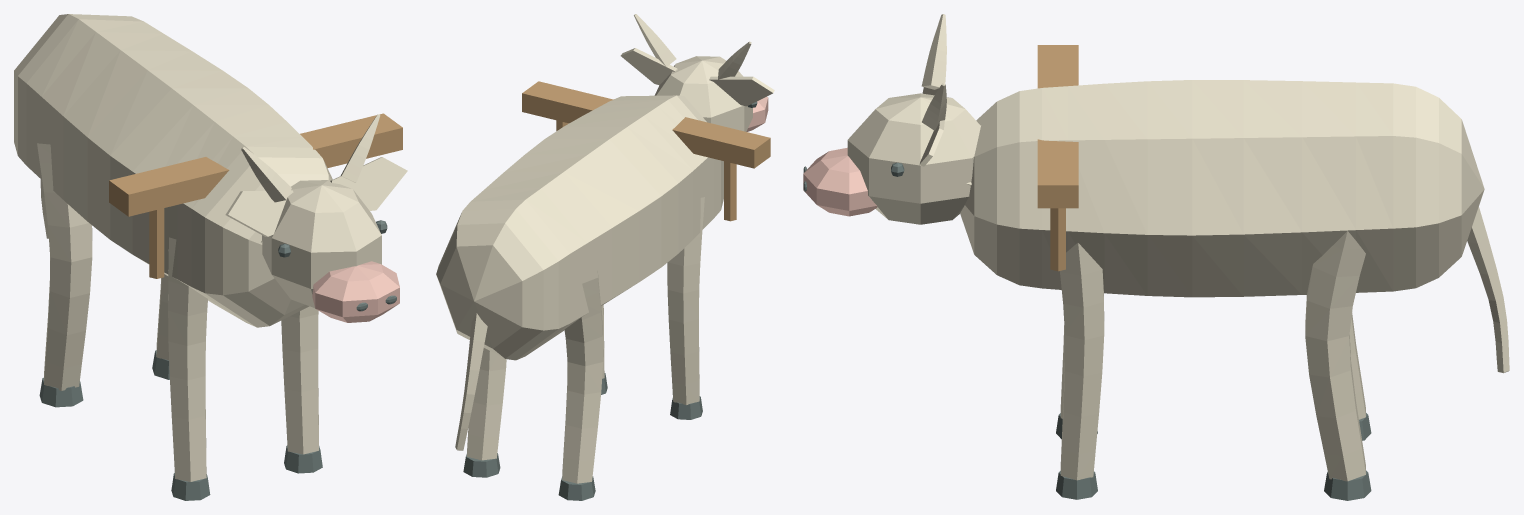
Rendered from ox-with-yoke.glb.
3 renders of one model, left to right at view 1: azimuth 30°, elevation 25°; view 2: azimuth 150°, elevation 25°; view 3: azimuth 270°, elevation 25°, orthographic. The views are drawn at different scales.
Visible parts, largest first — view 1: ox-with-yoke; view 2: ox-with-yoke; view 3: ox-with-yoke.
Boxes of the visible parts, x1,y1,x2,y2 form: ox-with-yoke: (14,14,407,500); ox-with-yoke: (436,14,774,500); ox-with-yoke: (803,14,1509,500).
Size of the model in its own units: 1.3 by 1.79 by 2.77.
